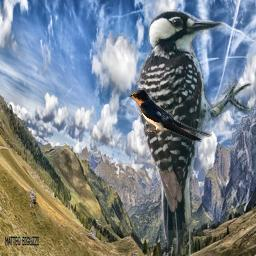Swallow: (126, 87, 212, 142)
Woodpecker: (132, 9, 256, 256)
